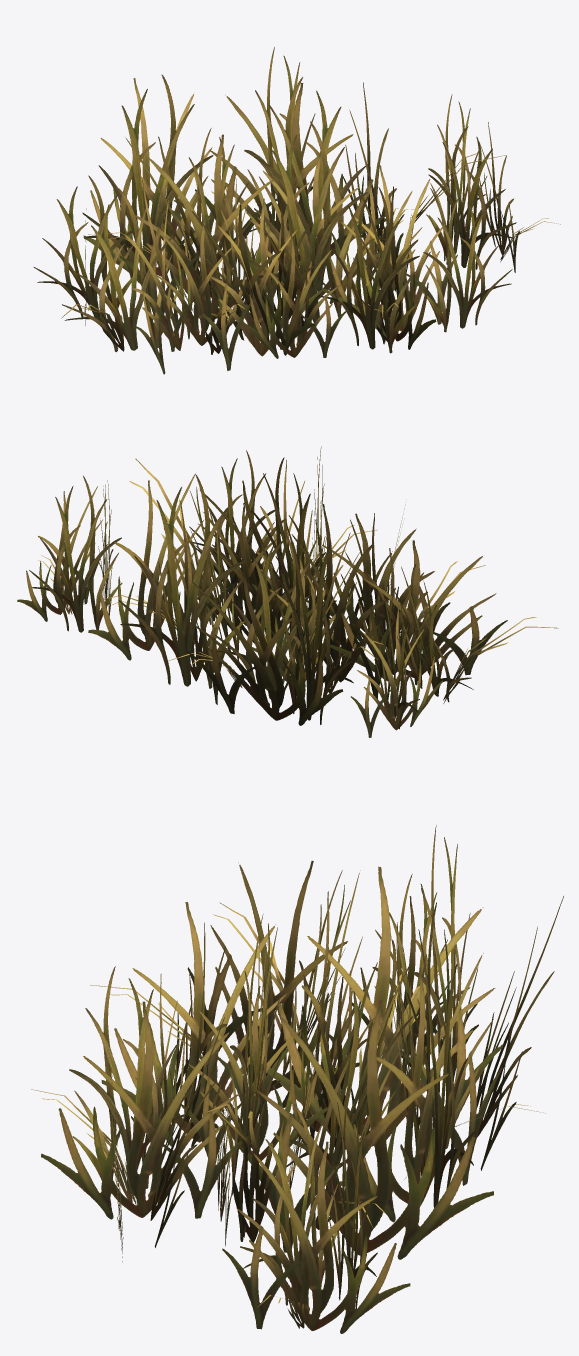
The model's file is fb_lyhg_gm_02.FBX.
3 views of the same model, one above another, from view 1: azimuth 30°, elevation 25°; view 2: azimuth 150°, elevation 25°; view 3: azimuth 270°, elevation 25° (orthographic). The views are drawn at different scales.
Parts seen in each view (by area): view 1: fb_qqs_gm_04; view 2: fb_qqs_gm_04; view 3: fb_qqs_gm_04.
Boxes of the visible parts, x1=… form: fb_qqs_gm_04: x1=33, y1=47, x2=560, y2=374; fb_qqs_gm_04: x1=17, y1=446, x2=558, y2=737; fb_qqs_gm_04: x1=31, y1=825, x2=563, y2=1333.
Size of the model in its own units: 275 by 116 by 179.
